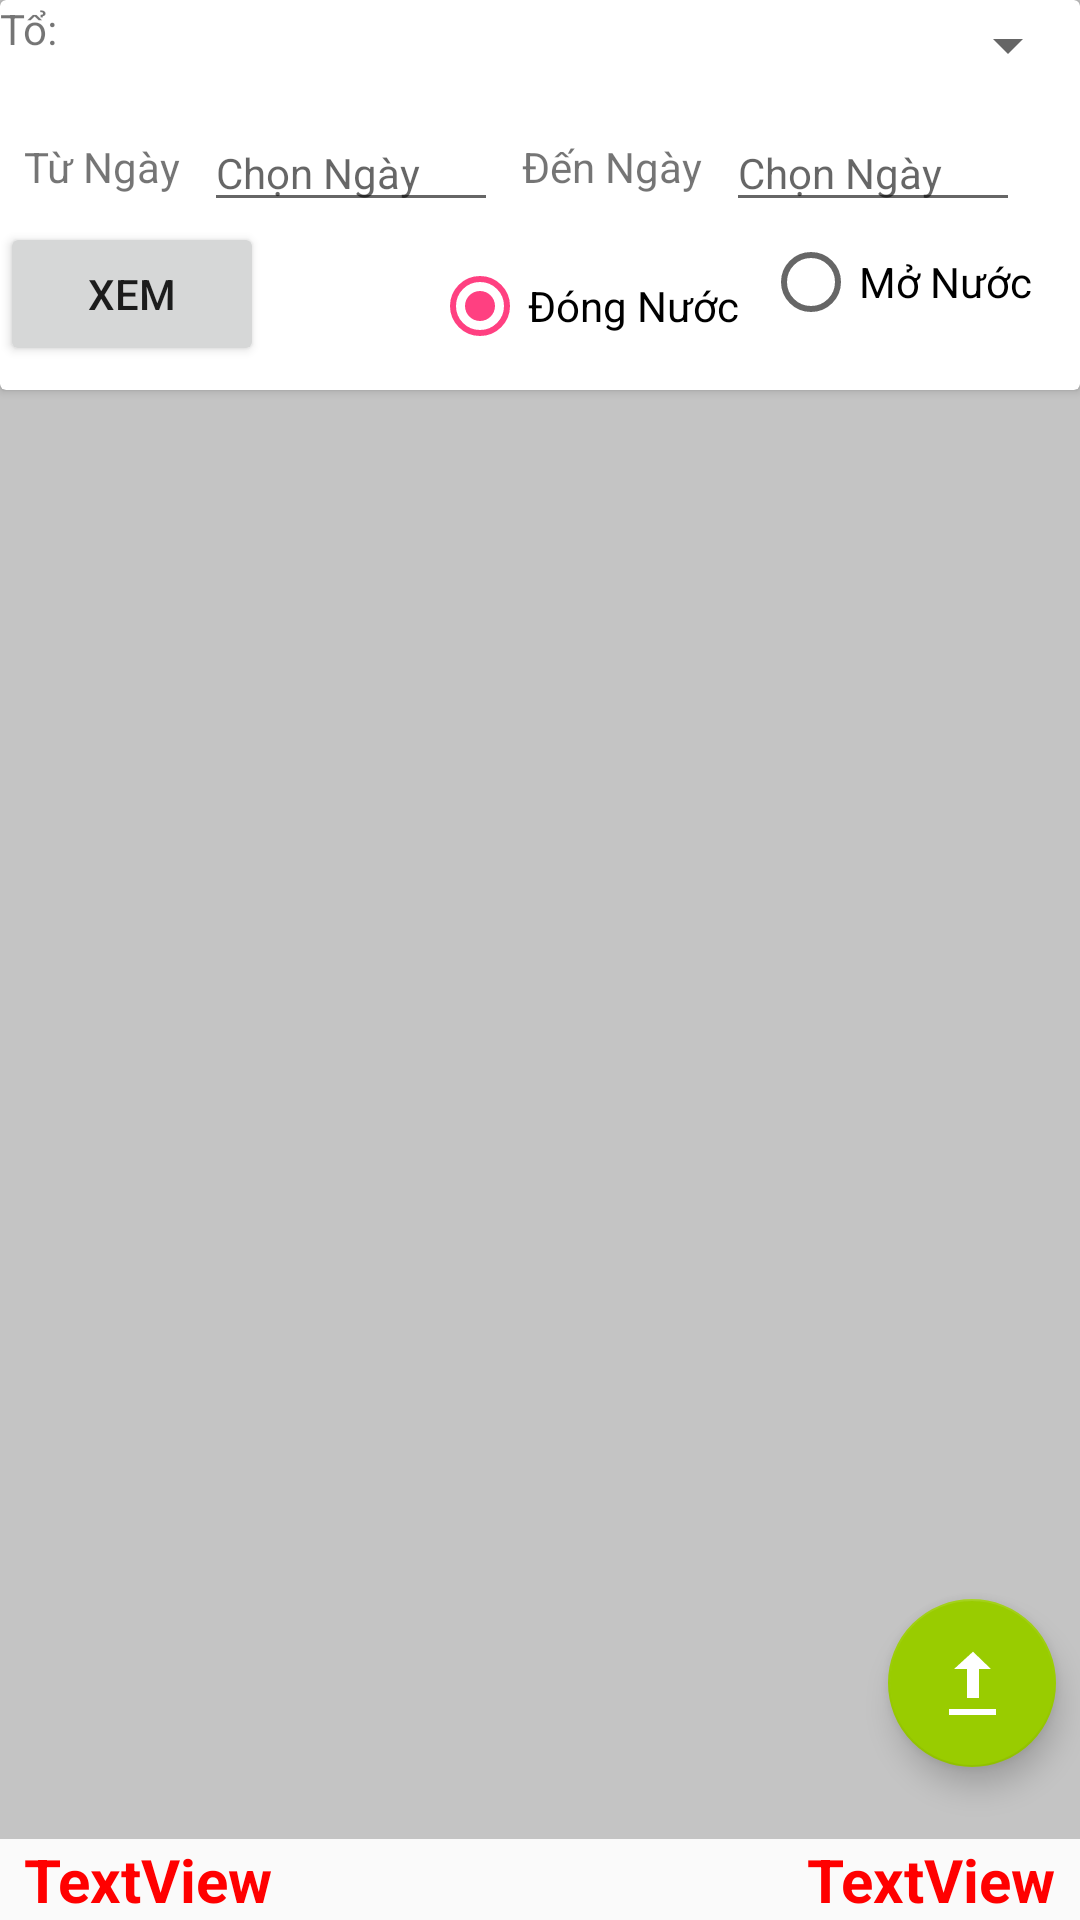

Named icons in this screenshot (1080x1920) and their bounding boxes, (x1, y1, x2, y2):
upload: (888, 1599, 1056, 1767)
